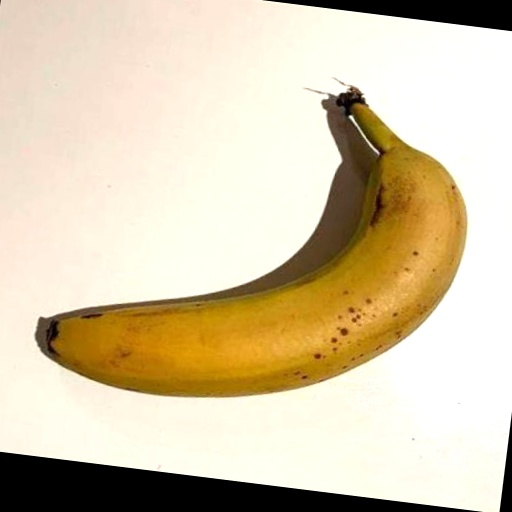fruit: (47, 87, 466, 396)
